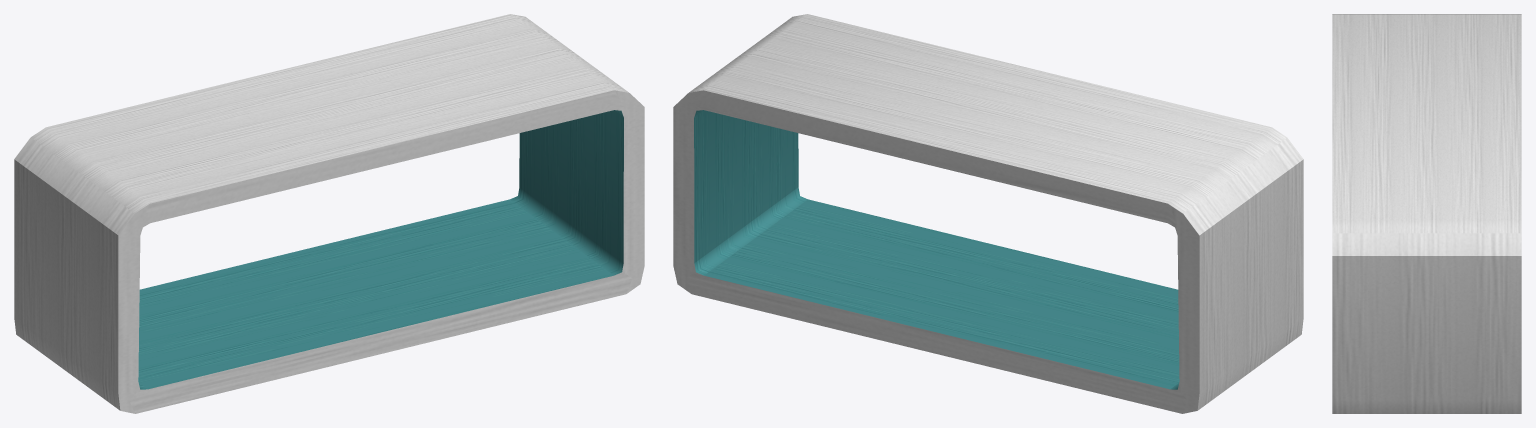
Rendered from Wall_Shelf_01_I.FBX.
The picture shows the model from 3 angles, left to right: view 1: azimuth 30°, elevation 25°; view 2: azimuth 150°, elevation 25°; view 3: azimuth 270°, elevation 25°; orthographic projection. The views are drawn at different scales.
Visible parts, largest first — view 1: Wall_Shelf; view 2: Wall_Shelf; view 3: Wall_Shelf.
Part boxes in pixels (bbox=[...]): Wall_Shelf: bbox=[14, 14, 644, 413]; Wall_Shelf: bbox=[673, 14, 1303, 413]; Wall_Shelf: bbox=[1332, 14, 1521, 413].
Size of the model in its own units: 160 by 60.21 by 54.97.
